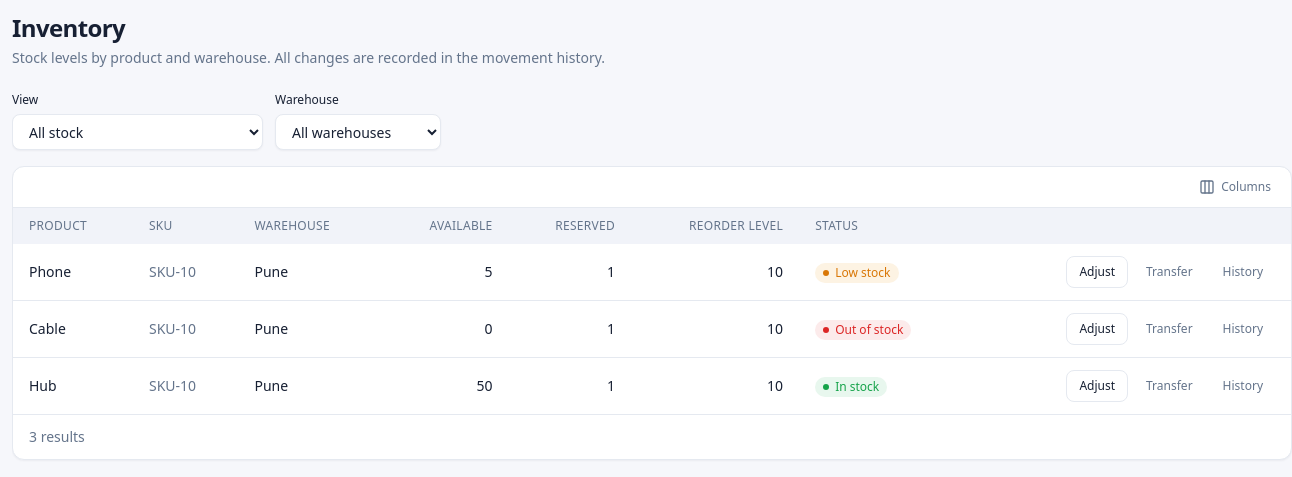
Test: AdminInventoryPage › uses the low-stock endpoint for the "needs attention" view
This screenshot has width=1292, height=477.
Expected: the text "Phone" is shown, [29,262,71,281]
Select "Needs attention (low or out)" in the dropdown labelled "View" at x=138, y=132, box [12,114,263,150]
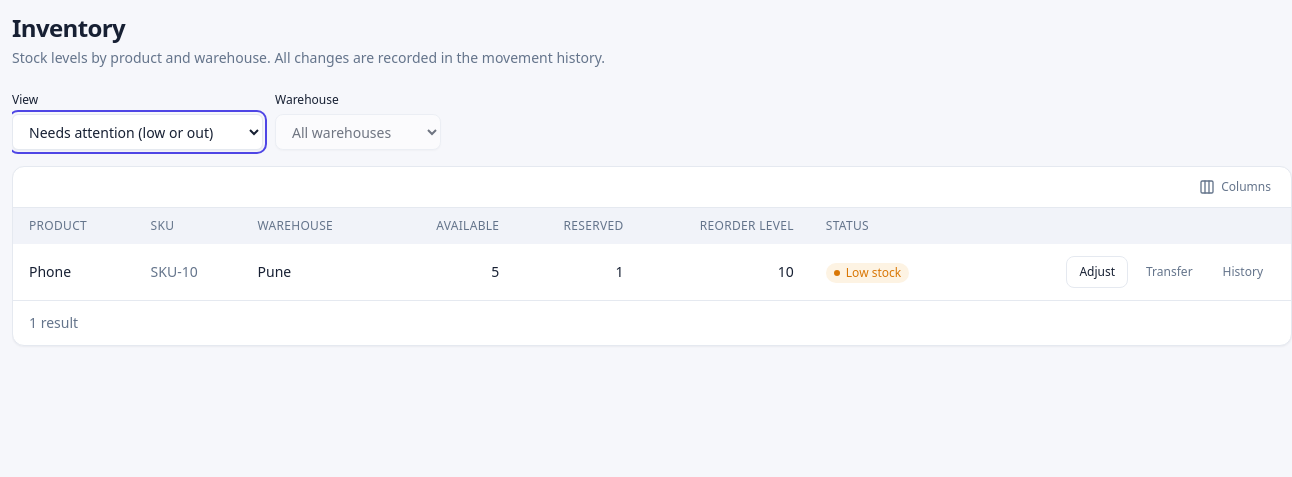
Expected: the dropdown labelled "Warehouse" is disabled, [275,114,441,150]
